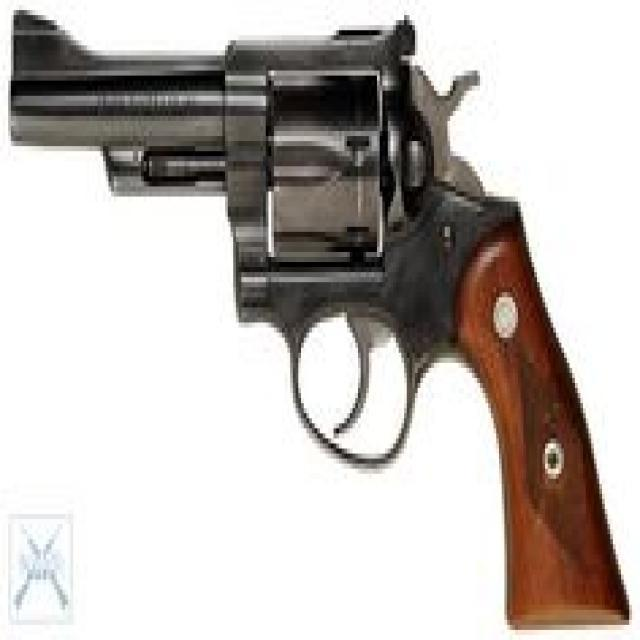revolver: (7, 6, 630, 636)
